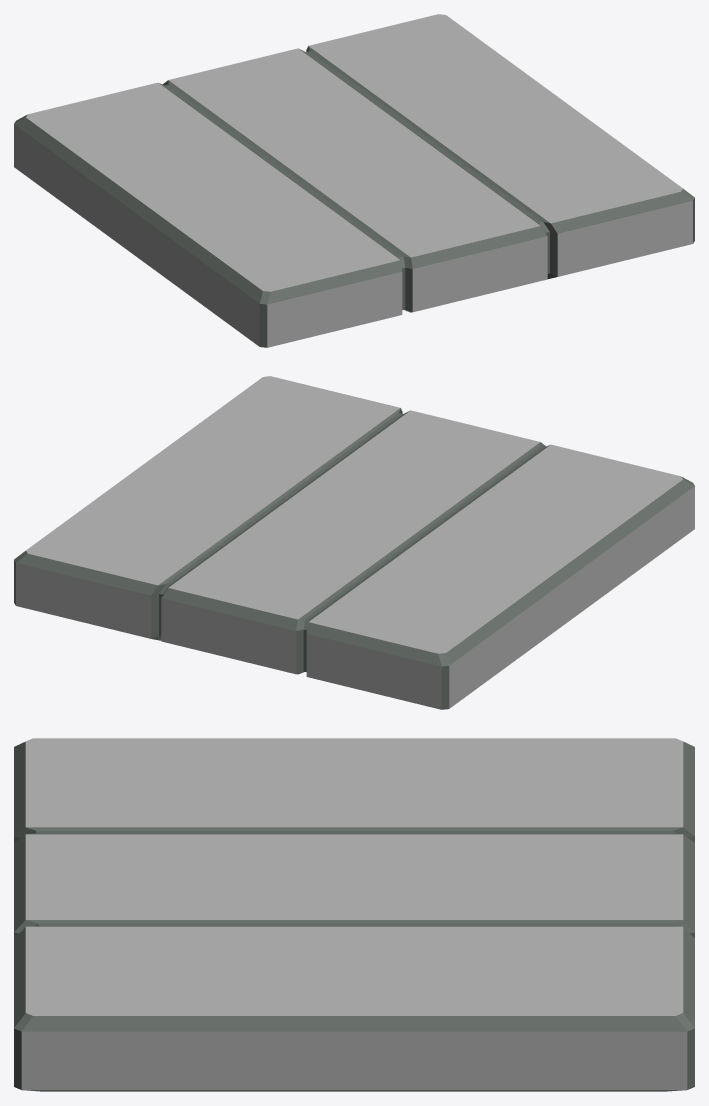
File: Path.001.glb
3 renders of one model, top to bottom at view 1: azimuth 30°, elevation 25°; view 2: azimuth 150°, elevation 25°; view 3: azimuth 270°, elevation 25°, orthographic. The views are drawn at different scales.
Parts seen in each view (by area): view 1: Path.001; view 2: Path.001; view 3: Path.001.
Boxes of the visible parts, x1,y1,x2,y2 form: Path.001: (14,14,694,347); Path.001: (14,376,694,709); Path.001: (14,738,694,1091).
Size of the model in its own units: 2 by 0.2579 by 2.
Materials: 1 (1 with a texture image).
